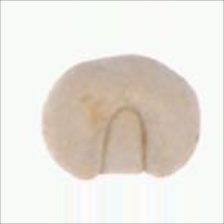L5: (98, 104, 150, 177), (85, 48, 155, 73)
L6: (39, 51, 206, 183)
